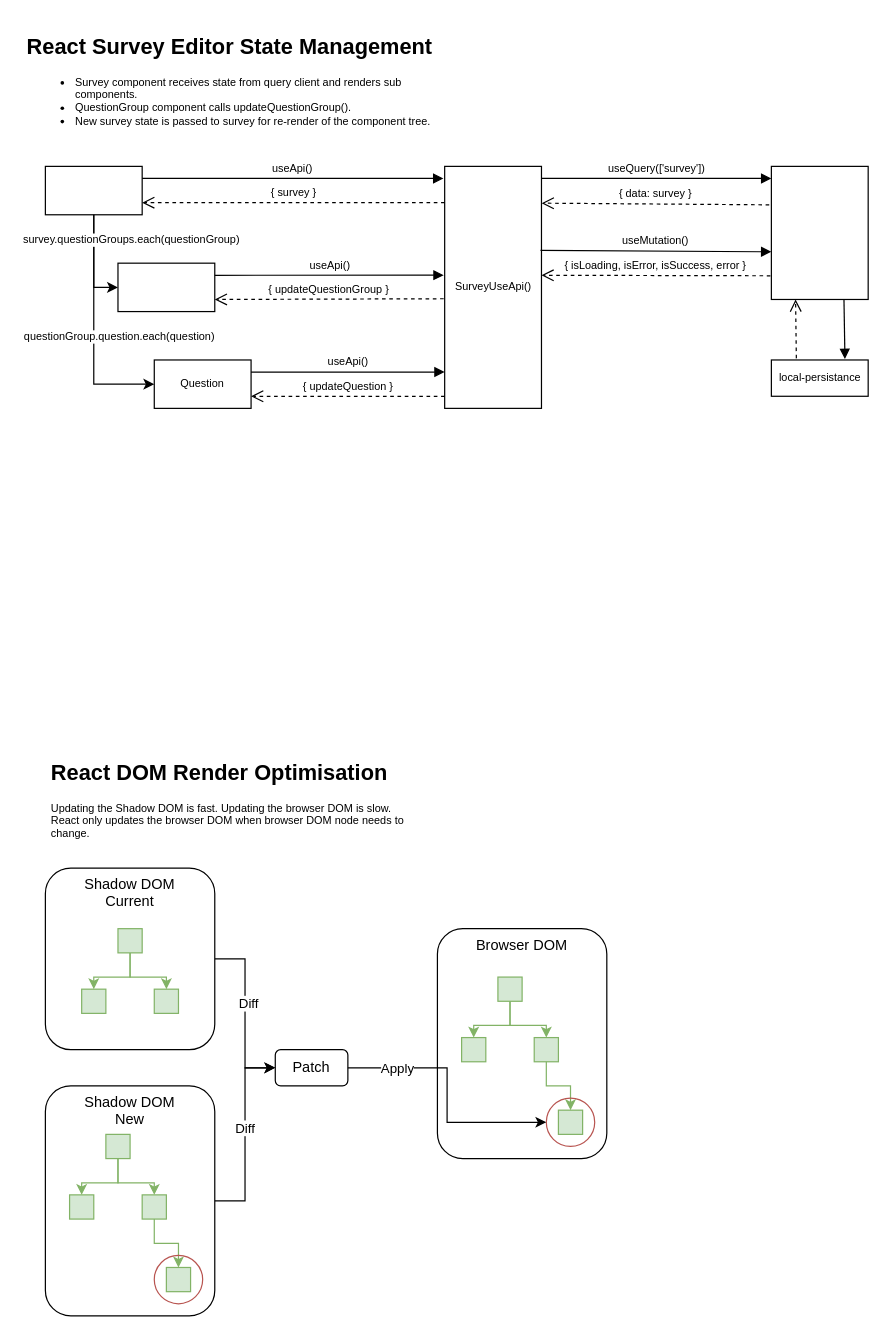
This 889x1337 diagram has some shape labels left out. Here are the shapes that lost their labels. From the top down, the centre of each, then its label:
(x=93, y=190): Survey
(x=819, y=232): queryClient
(x=166, y=287): Question Group
